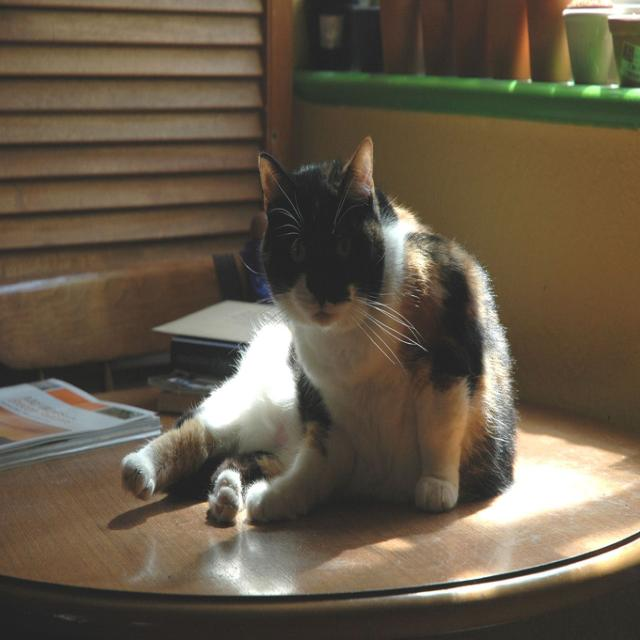cat: (120, 136, 520, 527)
